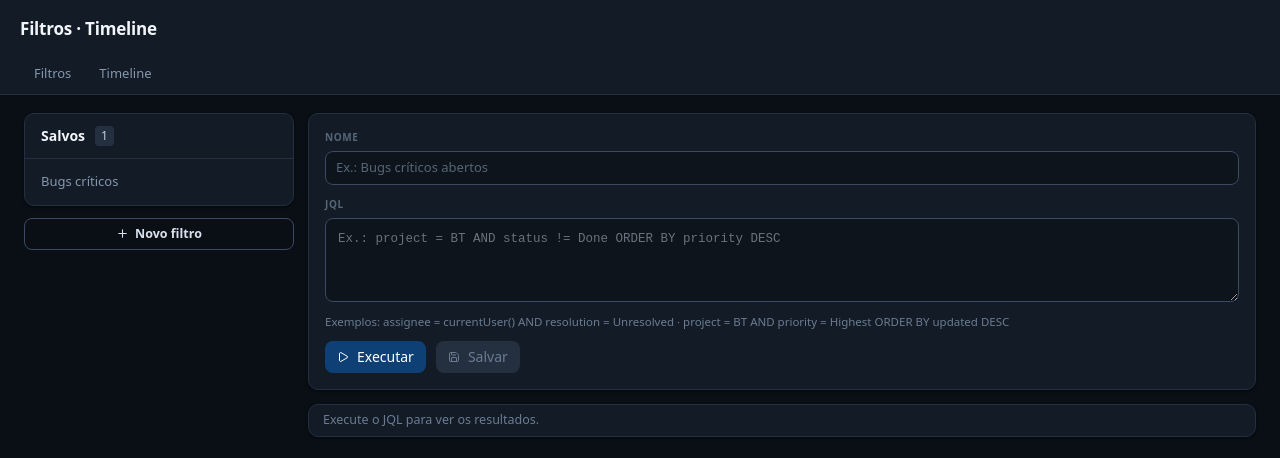
Filters › mostra "nenhum resultado" e trata erro ao executar
Expected: the button "Bugs críticos" is shown, [41,172,277,192]
Type "status = Done AND resolution = Unresolved" into the text box at (782, 260), box [325,218,1239,302]
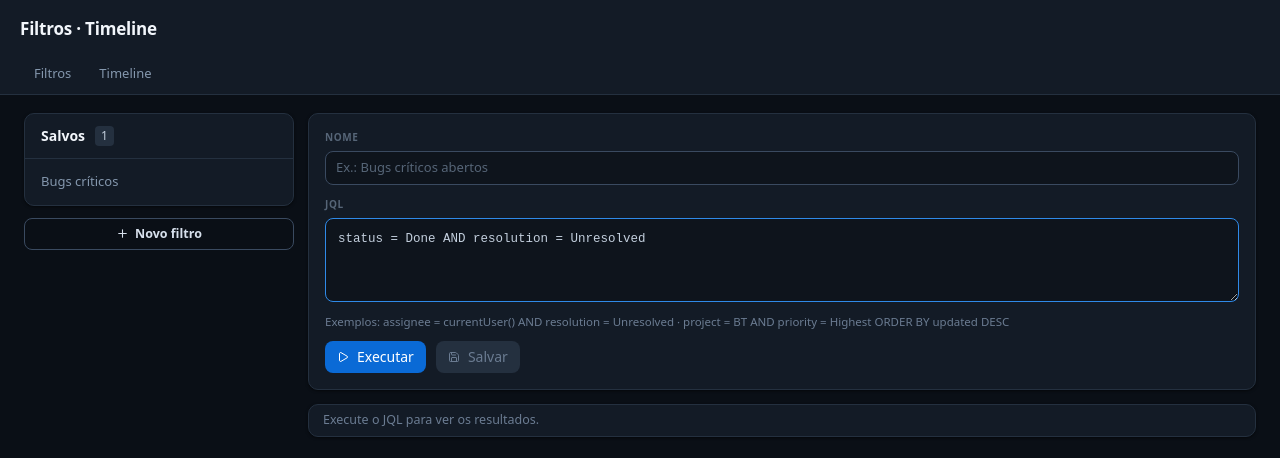
Click the button "Executar" at (375, 357), box [325,341,426,373]
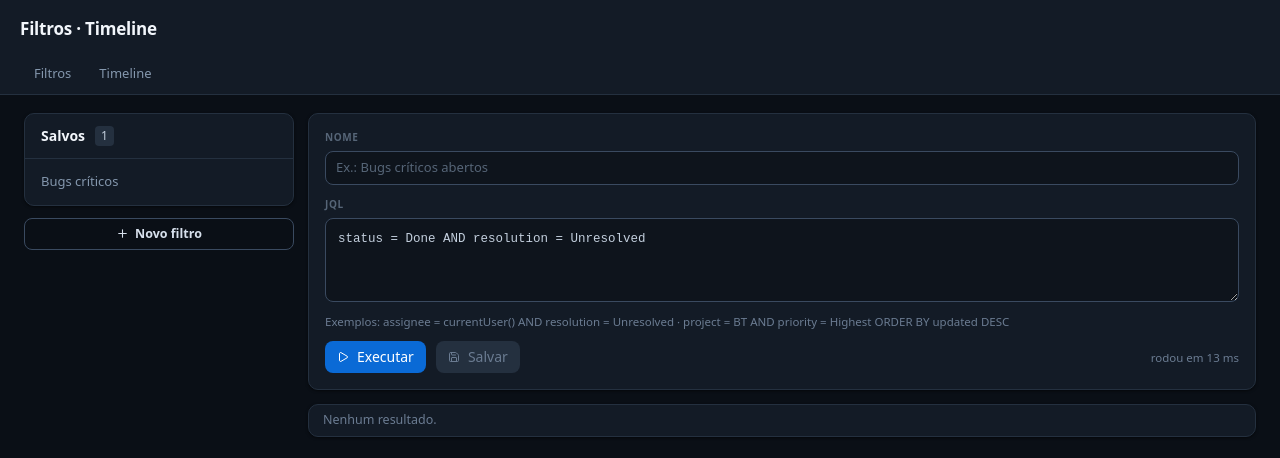
Expected: the text "Nenhum resultado." is shown, [308,404,1256,437]
Click the button "Executar" at (375, 357), box [325,341,426,373]
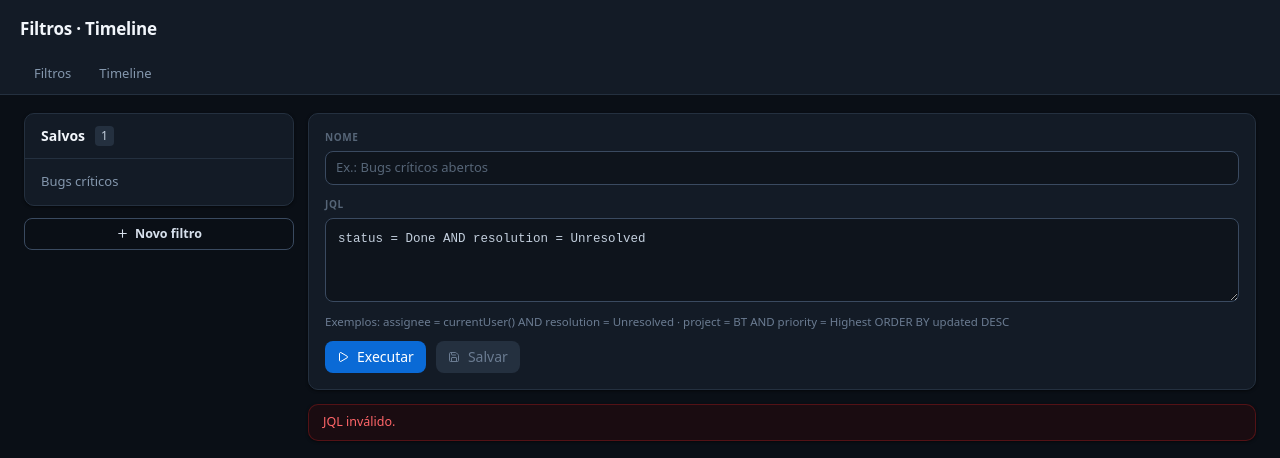
Expected: the text "JQL inválido." is shown, [308,404,1256,441]
